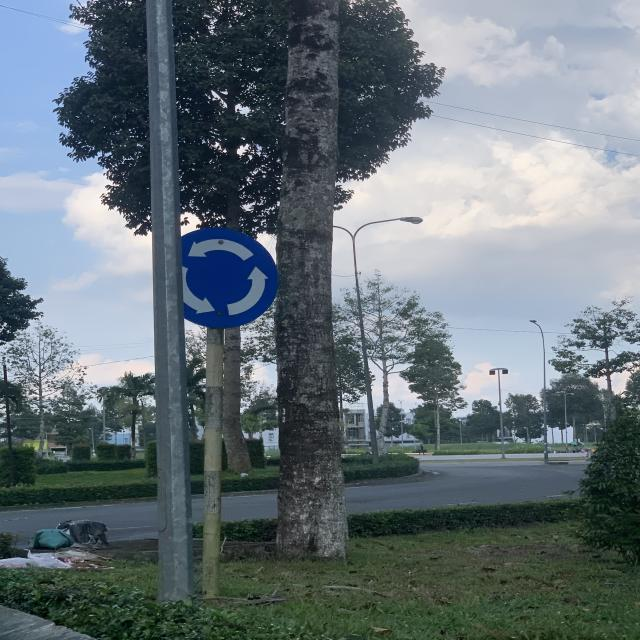Xe_Bus: (178, 228, 279, 329)
